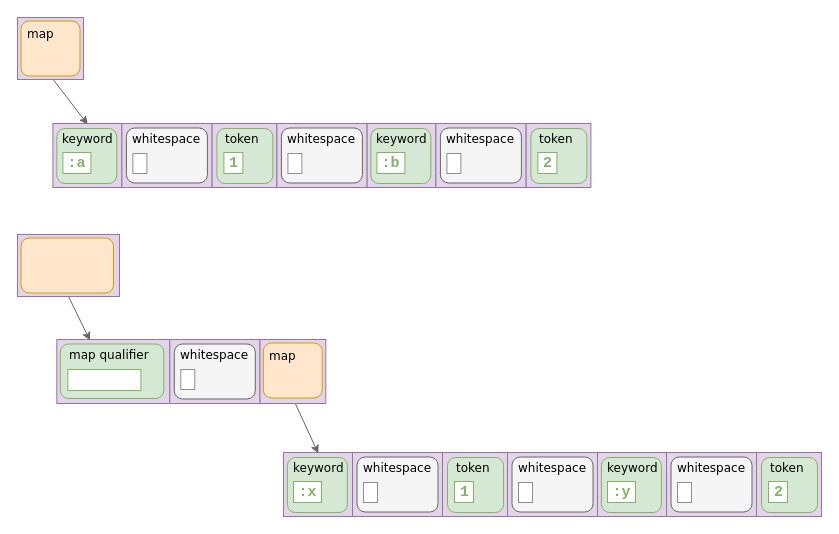
This 839x534 diagram has some shape labels left out. Here are the shapes that lost their labels. From the top down, the centre of each, then its label:
the point at 67,265: namespaced map
the point at 104,379: :prefix
